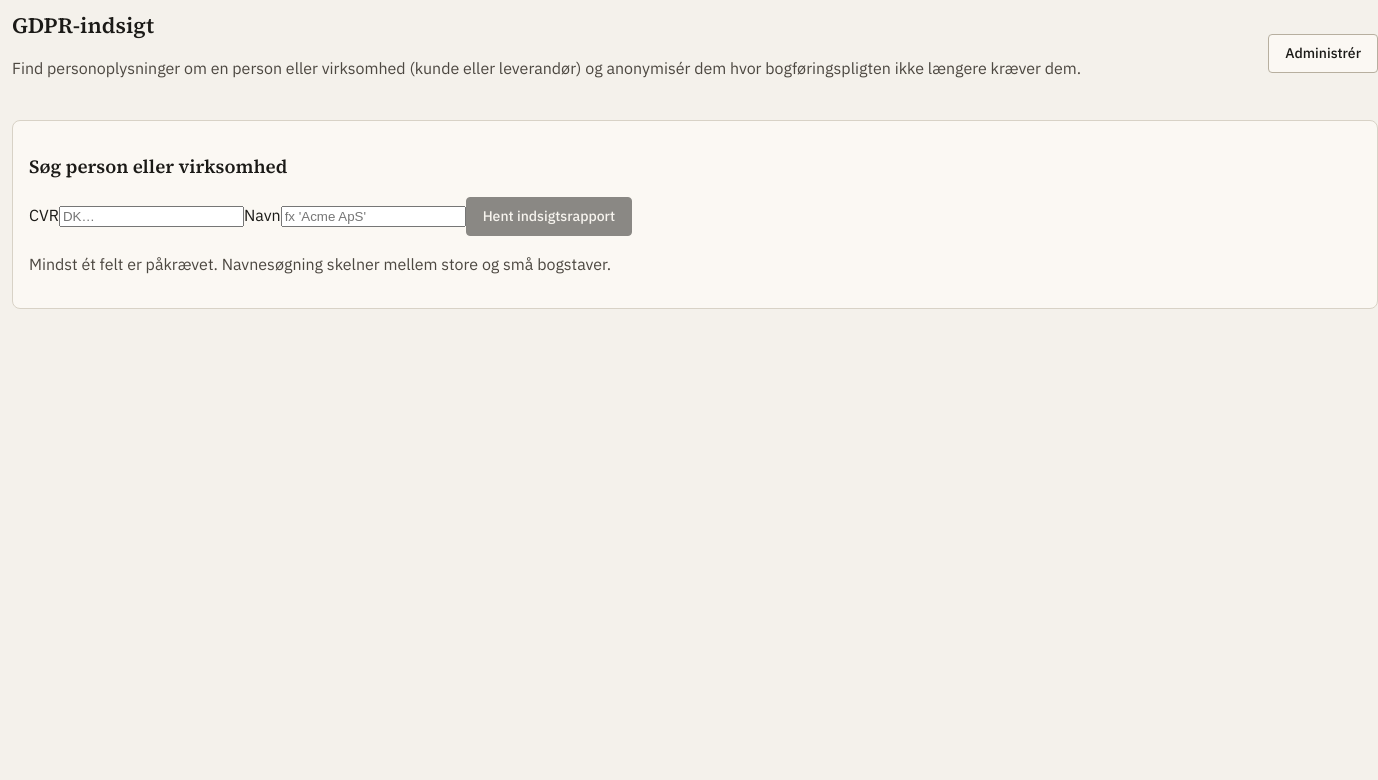
Test case: GdprView (#334) › rapport-panel viser records med under-retention-status
The image size is (1378, 780).
Type "DK99999999" into the field with placeholder "DK…" at (151, 217), box [59, 206, 244, 227]
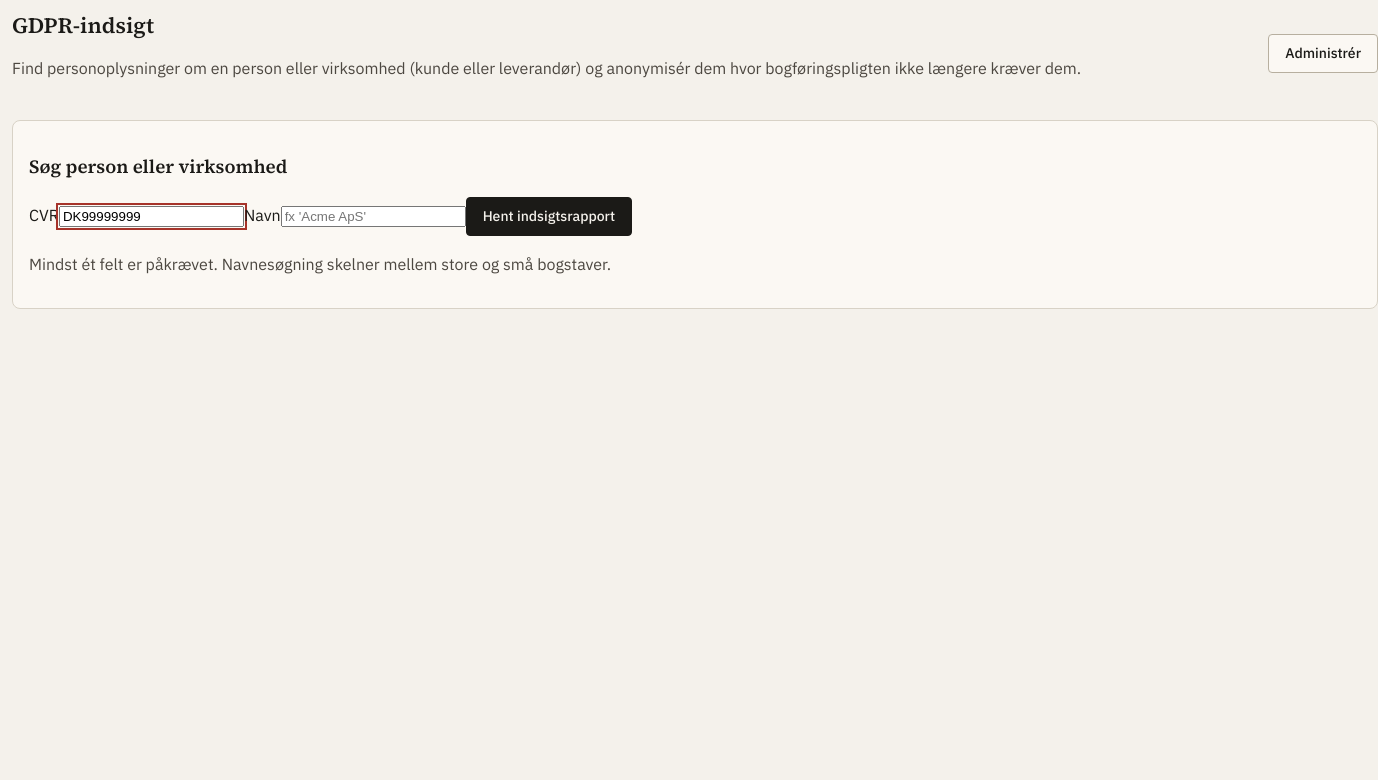
Click the button "Hent indsigtsrapport" at (549, 217), box [466, 197, 632, 236]
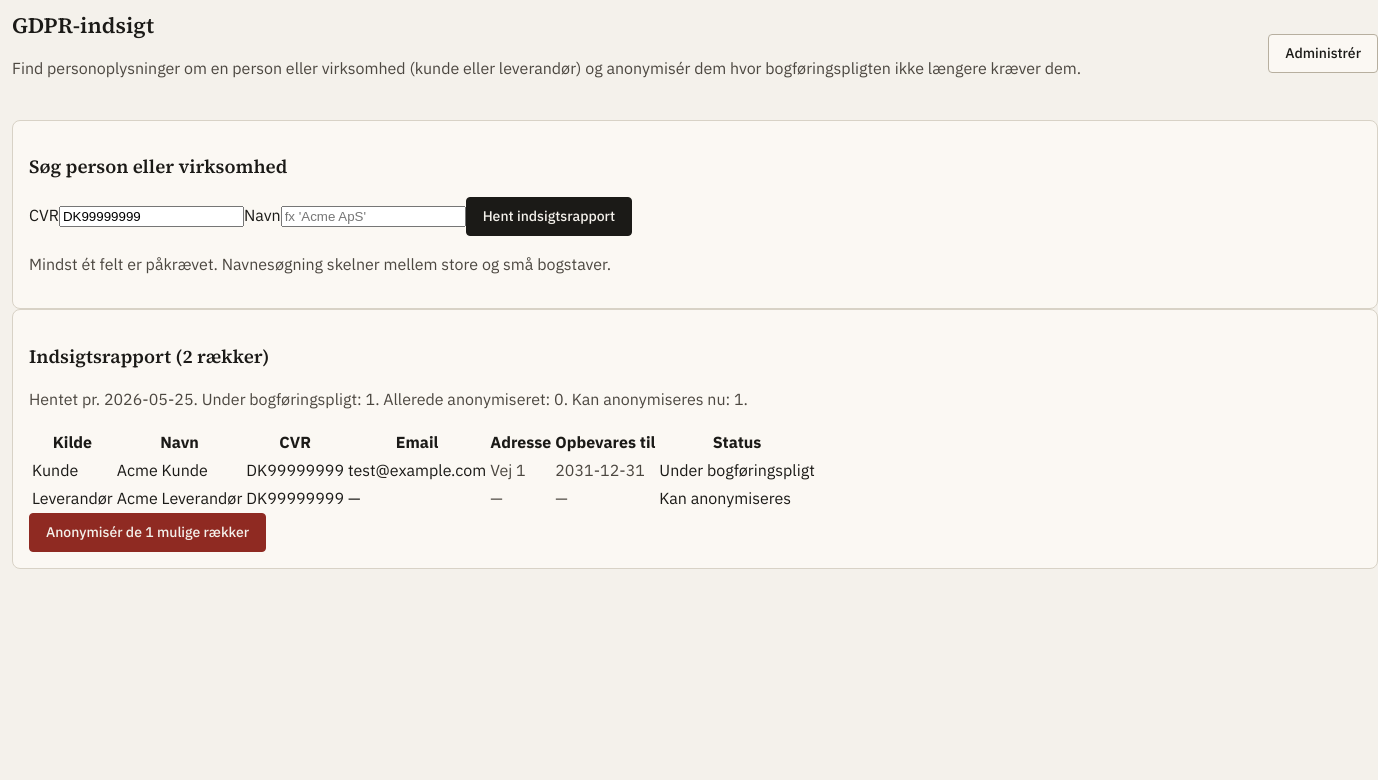
Result: the text "Acme Kunde" is shown at [116, 457, 243, 483]
Result: the text "Acme Leverandør" is shown at [116, 485, 243, 511]
Result: the text "Under bogføringspligt" is shown at [194, 389, 362, 409]
